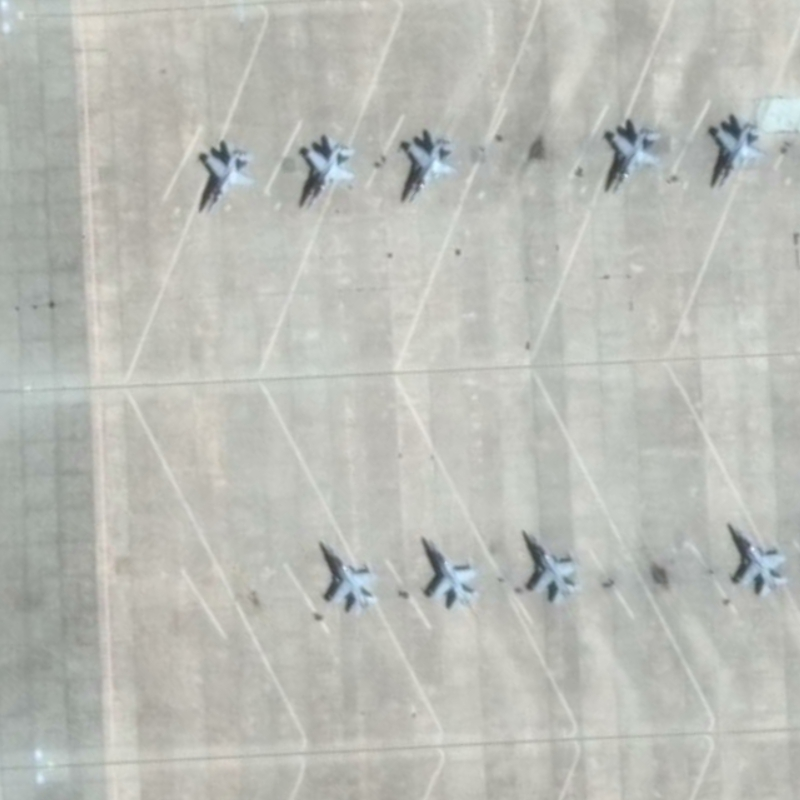A16: (721, 510, 793, 600), (517, 513, 586, 606), (417, 525, 487, 612), (597, 114, 666, 201), (391, 127, 462, 211), (315, 531, 381, 618), (704, 107, 769, 195), (192, 131, 256, 220), (293, 130, 361, 211)
